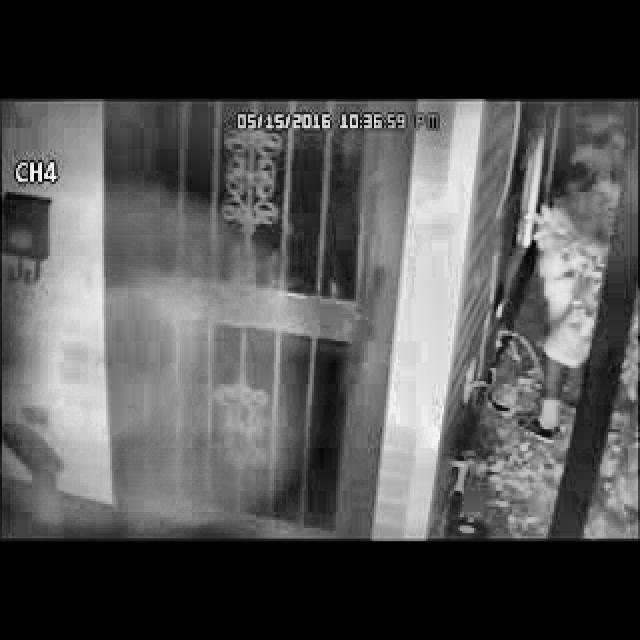burglary: (478, 177, 616, 446)
